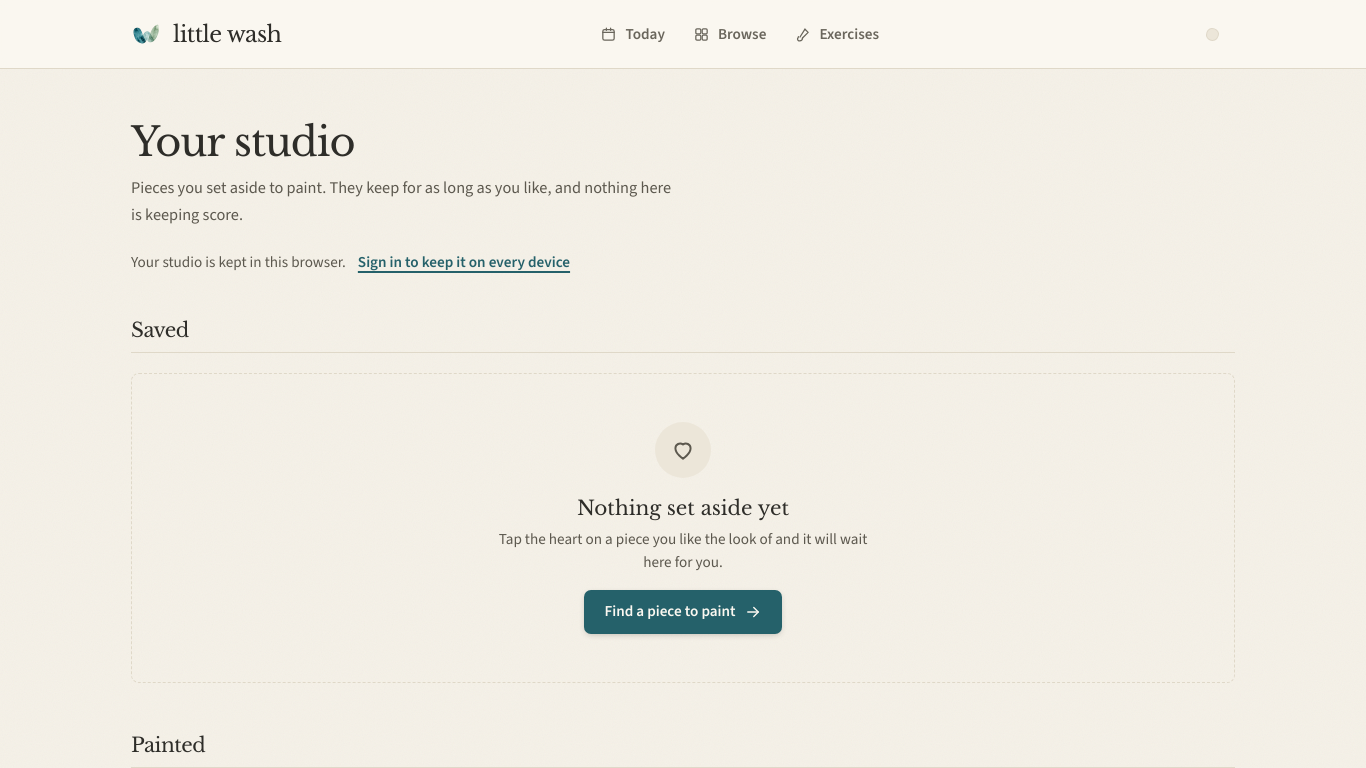
it: signed out, with accounts available › closes for good when another tab signs in while it is open
This screenshot has width=1366, height=768.
Click the button "Sign in to keep it on every device" at coordinates (464, 262), box top-left (354, 240), bottom-right (574, 284)
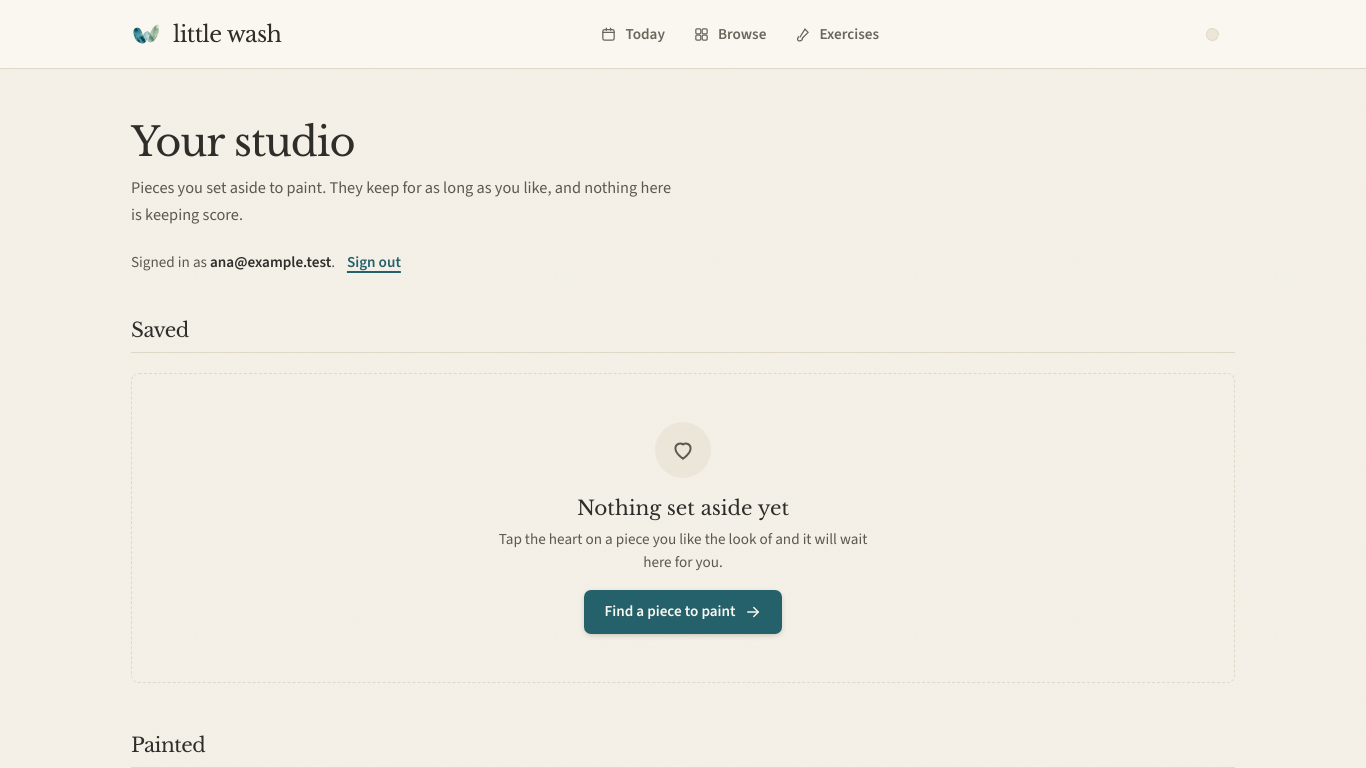
Expected: the text "Signed in as ana@example.test." is shown, top-left (131, 251), bottom-right (335, 273)
Signing out here later must not bring back a sheet nobody asked for.
Click the button "Sign out" at coordinates (374, 262), box top-left (343, 240), bottom-right (405, 284)
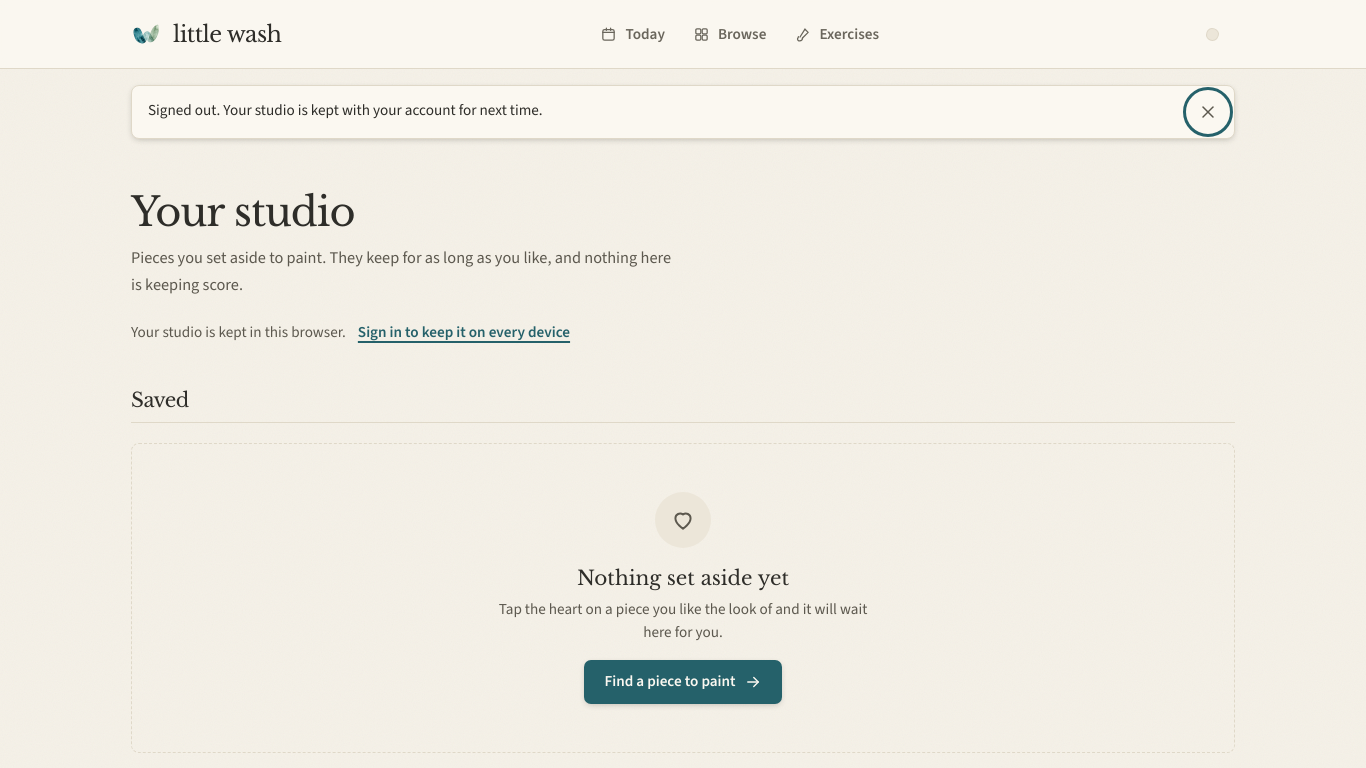
Expected: the text "Your studio is kept in this browser." is shown, top-left (131, 321), bottom-right (346, 343)
